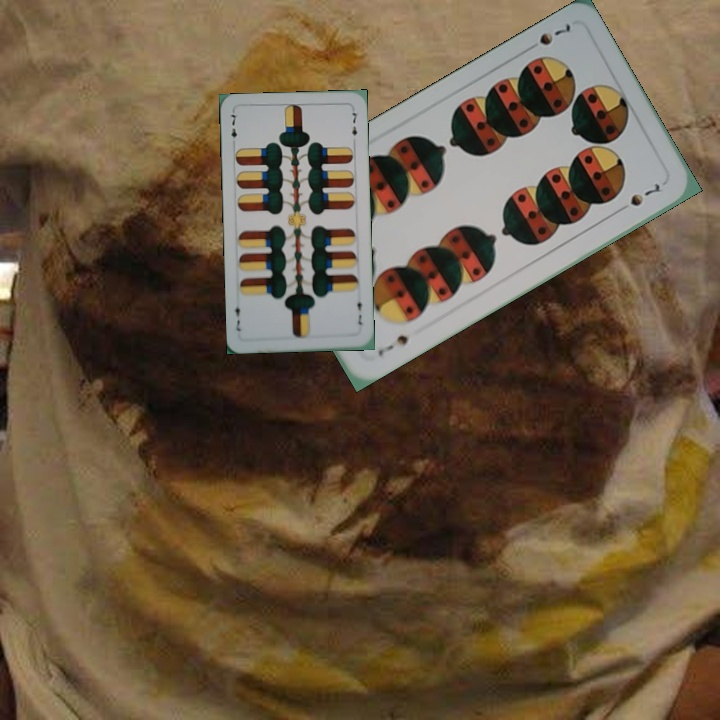E7: (226, 108, 239, 149), (353, 293, 365, 327)
S7: (521, 19, 574, 55), (374, 330, 411, 359)
